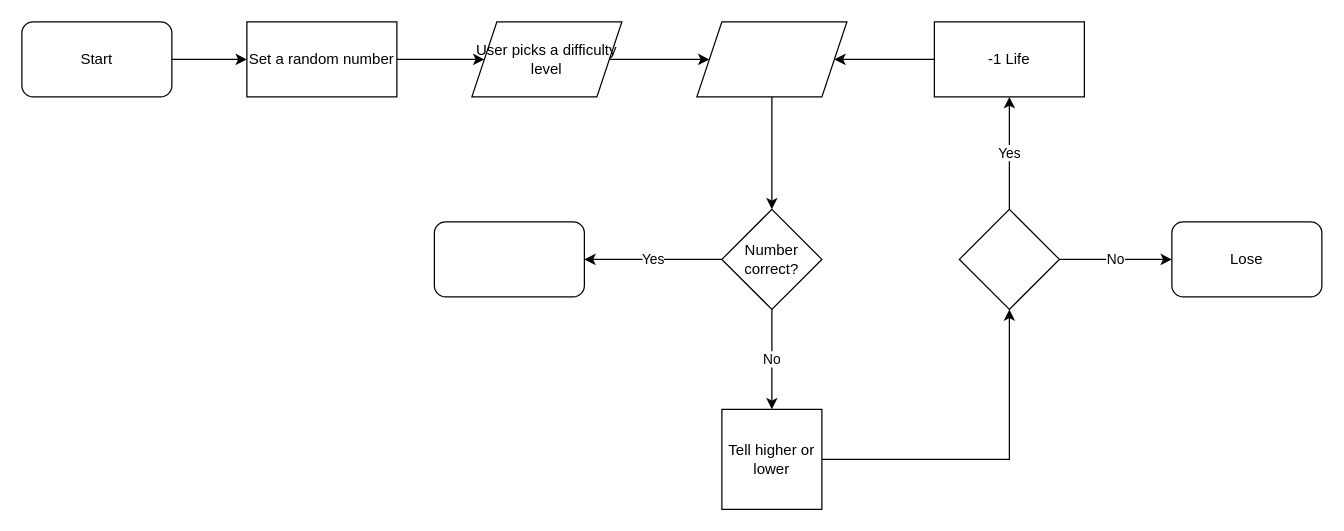
The diagram is 1344 pixels wide and 531 high, and some of its shapes have lost their labels. The centre of each missing label's shape, as x and y in pixels:
"Lives > 1?" goes at pixel 1008 258.
"User guesses a number" goes at pixel 771 59.
"Win" goes at pixel 508 259.
